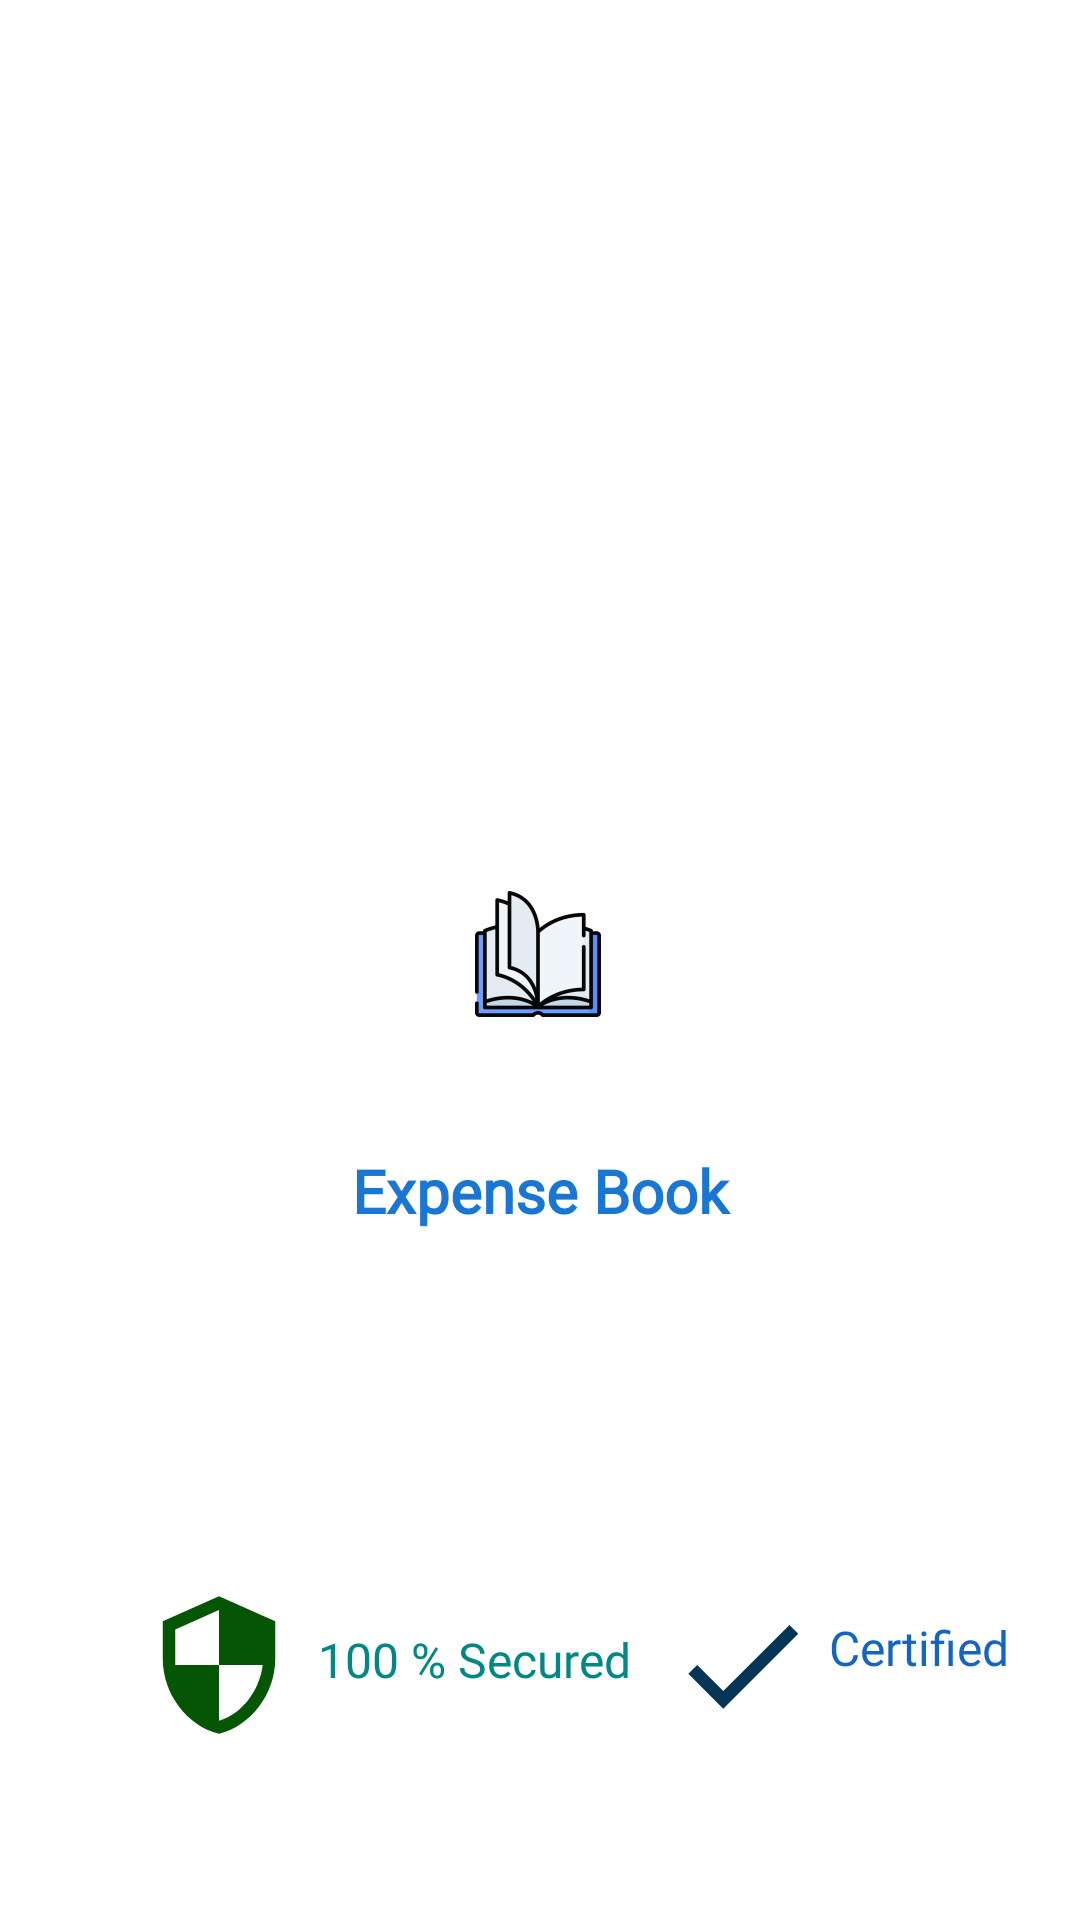

Screen size 1080w x 1920h. Icon name, then its center in pixels as (x,y):
check: (743,1667)
